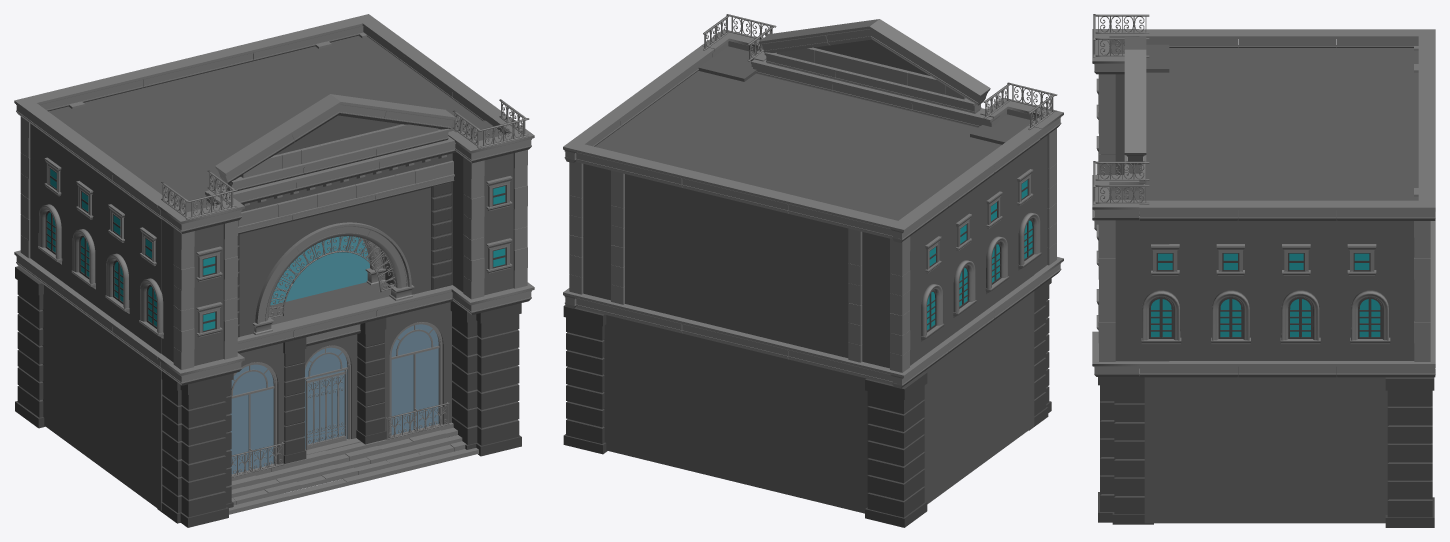
File: SM_building_bank_france.fbx
3 views of the same model, side by side, from view 1: azimuth 30°, elevation 25°; view 2: azimuth 150°, elevation 25°; view 3: azimuth 270°, elevation 25° (orthographic). The views are drawn at different scales.
Visible parts, largest first — view 1: Box518; view 2: Box518; view 3: Box518.
Part boxes in pixels (x1,y1,x2,y2): Box518: (14, 14, 534, 527); Box518: (563, 14, 1063, 527); Box518: (1092, 14, 1435, 527).
Bounding box in the file's own units: 531 × 537 × 430.
